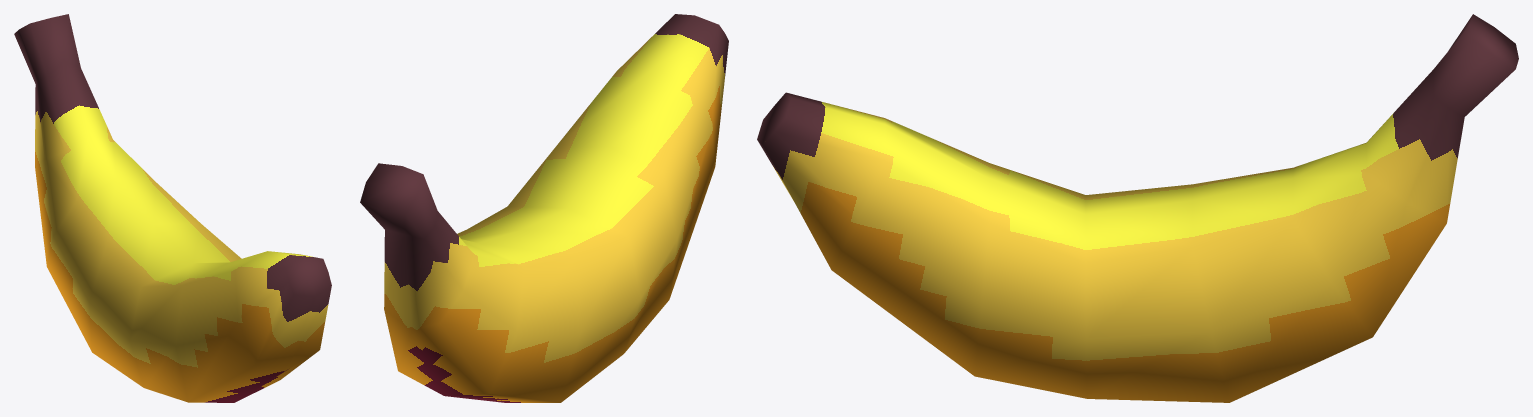
Rendered from Banan.gltf.
3 views of the same model, side by side, from view 1: azimuth 30°, elevation 25°; view 2: azimuth 150°, elevation 25°; view 3: azimuth 270°, elevation 25° (orthographic). The views are drawn at different scales.
Visible parts, largest first — view 1: Banan; view 2: Banan; view 3: Banan.
Boxes of the visible parts, x1,y1,x2,y2 form: Banan: [14, 14, 331, 402]; Banan: [360, 14, 728, 402]; Banan: [757, 14, 1518, 402].
Bounding box in the file's own units: 1.09 × 2.23 × 4.24.
1 material, 1 textured.
